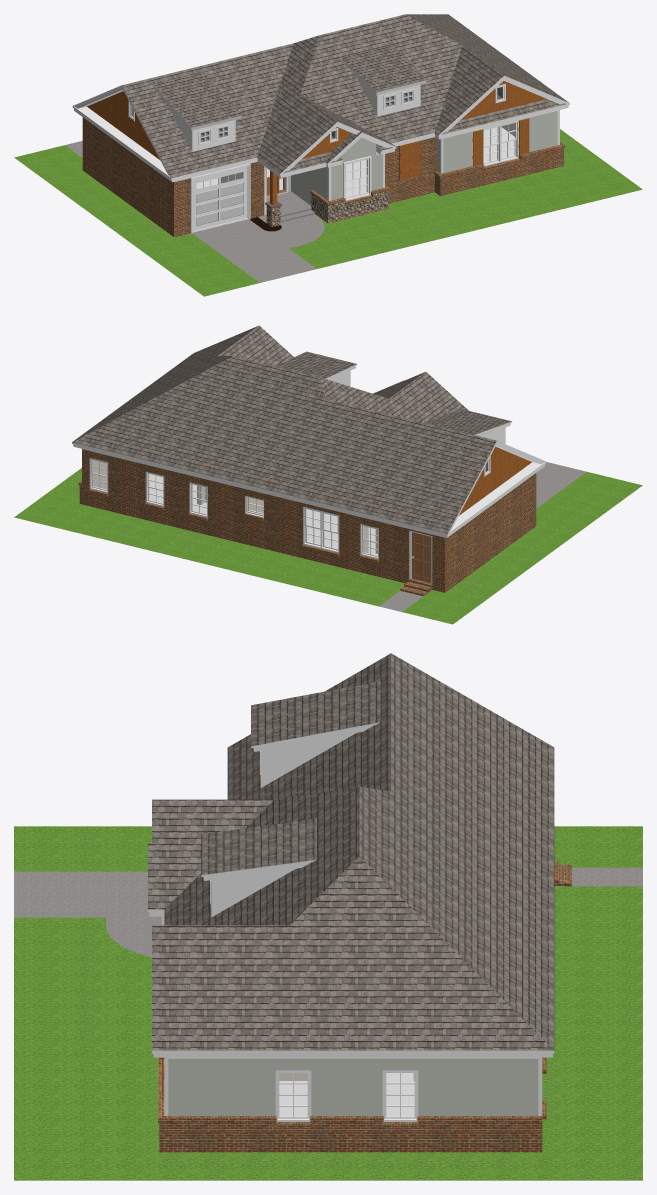
Rendered from ranch_craftsman.glb.
The picture shows the model from 3 angles, top to bottom: view 1: azimuth 30°, elevation 25°; view 2: azimuth 150°, elevation 25°; view 3: azimuth 270°, elevation 25°; orthographic projection. The views are drawn at different scales.
Parts seen in each view (by area): view 1: Mesh5_Roofing_Shingles_Asphalt_0, Mesh31_Grass_Dark_Green_0, Mesh1_FrontColor_0, Mesh16_Brick_Antique_01_0, Mesh30_Concrete_Aggregate_Smoke_0, Mesh8_Wood_Bamboo_0, Mesh30__19_0, Mesh30_Groundcover_River_Rock_4_inch_0, Mesh12_Marc_Shoes4_0, Mesh1__8_0; view 2: Mesh5_Roofing_Shingles_Asphalt_0, Mesh16_Brick_Antique_01_0, Mesh31_Grass_Dark_Green_0, Mesh1_FrontColor_0, Mesh30_Concrete_Aggregate_Smoke_0, Mesh1__8_0, Mesh8_Wood_Bamboo_0, Mesh17_Color_C07_0, Mesh30__4_0; view 3: Mesh5_Roofing_Shingles_Asphalt_0, Mesh31_Grass_Dark_Green_0, Mesh30__19_0, Mesh16_Brick_Antique_01_0, Mesh1_FrontColor_0, Mesh30_Concrete_Aggregate_Smoke_0, Mesh1__8_0.
Part boxes in pixels (x1,y1,x2,y2): Mesh5_Roofing_Shingles_Asphalt_0: [122, 14, 568, 177]; Mesh31_Grass_Dark_Green_0: [14, 129, 642, 296]; Mesh1_FrontColor_0: [72, 58, 569, 233]; Mesh16_Brick_Antique_01_0: [82, 117, 565, 237]; Mesh30_Concrete_Aggregate_Smoke_0: [65, 141, 324, 282]; Mesh8_Wood_Bamboo_0: [87, 81, 546, 204]; Mesh30__19_0: [288, 111, 557, 205]; Mesh30_Groundcover_River_Rock_4_inch_0: [266, 191, 388, 226]; Mesh12_Marc_Shoes4_0: [196, 171, 243, 226]; Mesh1__8_0: [132, 88, 514, 196]; Mesh5_Roofing_Shingles_Asphalt_0: [72, 325, 511, 533]; Mesh16_Brick_Antique_01_0: [78, 449, 536, 596]; Mesh31_Grass_Dark_Green_0: [14, 468, 642, 624]; Mesh1_FrontColor_0: [72, 364, 546, 583]; Mesh30_Concrete_Aggregate_Smoke_0: [379, 462, 586, 611]; Mesh1__8_0: [93, 461, 487, 555]; Mesh8_Wood_Bamboo_0: [459, 446, 531, 515]; Mesh17_Color_C07_0: [412, 532, 431, 582]; Mesh30__4_0: [93, 460, 377, 553]; Mesh5_Roofing_Shingles_Asphalt_0: [148, 653, 554, 1050]; Mesh31_Grass_Dark_Green_0: [14, 826, 642, 1180]; Mesh30__19_0: [168, 1059, 538, 1115]; Mesh16_Brick_Antique_01_0: [158, 861, 571, 1152]; Mesh1_FrontColor_0: [148, 722, 554, 1121]; Mesh30_Concrete_Aggregate_Smoke_0: [14, 867, 642, 957]; Mesh1__8_0: [280, 1073, 413, 1115].
Size of the model in its own units: 20.27 by 5.79 by 15.21.
25 materials, 13 textured.
